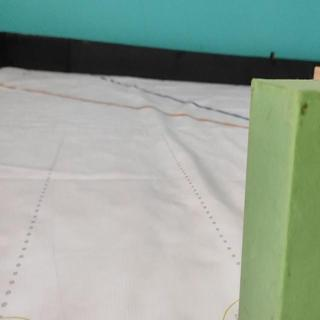greenbox: (239, 75, 320, 320)
